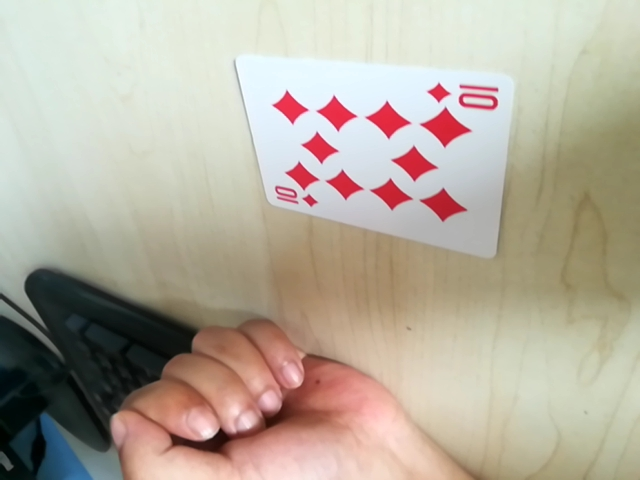fk 10: (427, 74, 503, 113), (268, 182, 321, 213)
